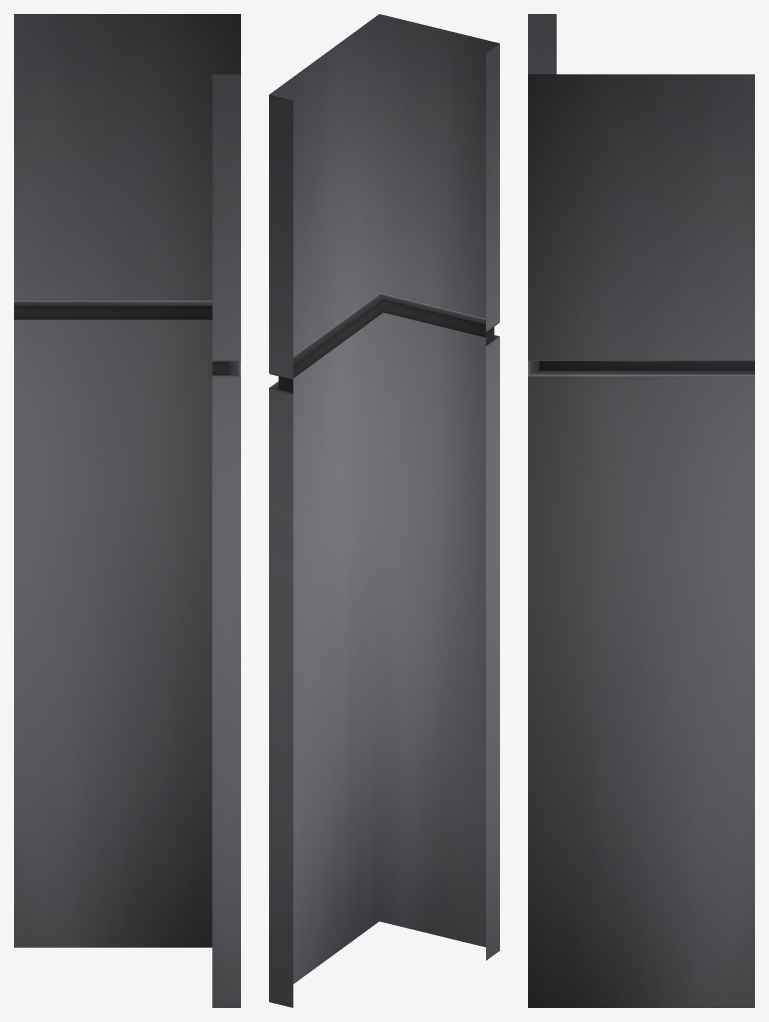
File: COR_ROT_HB.fbx
3 renders of one model, left to right at view 1: azimuth 90°, elevation 25°; view 2: azimuth 150°, elevation 25°; view 3: azimuth 270°, elevation 25°, orthographic. The views are drawn at different scales.
Visible parts, largest first — view 1: COR_ROT_HB; view 2: COR_ROT_HB; view 3: COR_ROT_HB.
Part boxes in pixels (box(x1,y1,x2,y2)): COR_ROT_HB: box(14, 14, 240, 1007); COR_ROT_HB: box(269, 14, 499, 1007); COR_ROT_HB: box(528, 14, 754, 1007).
Bounding box in the file's own units: 0.625 × 4.5 × 0.991.
